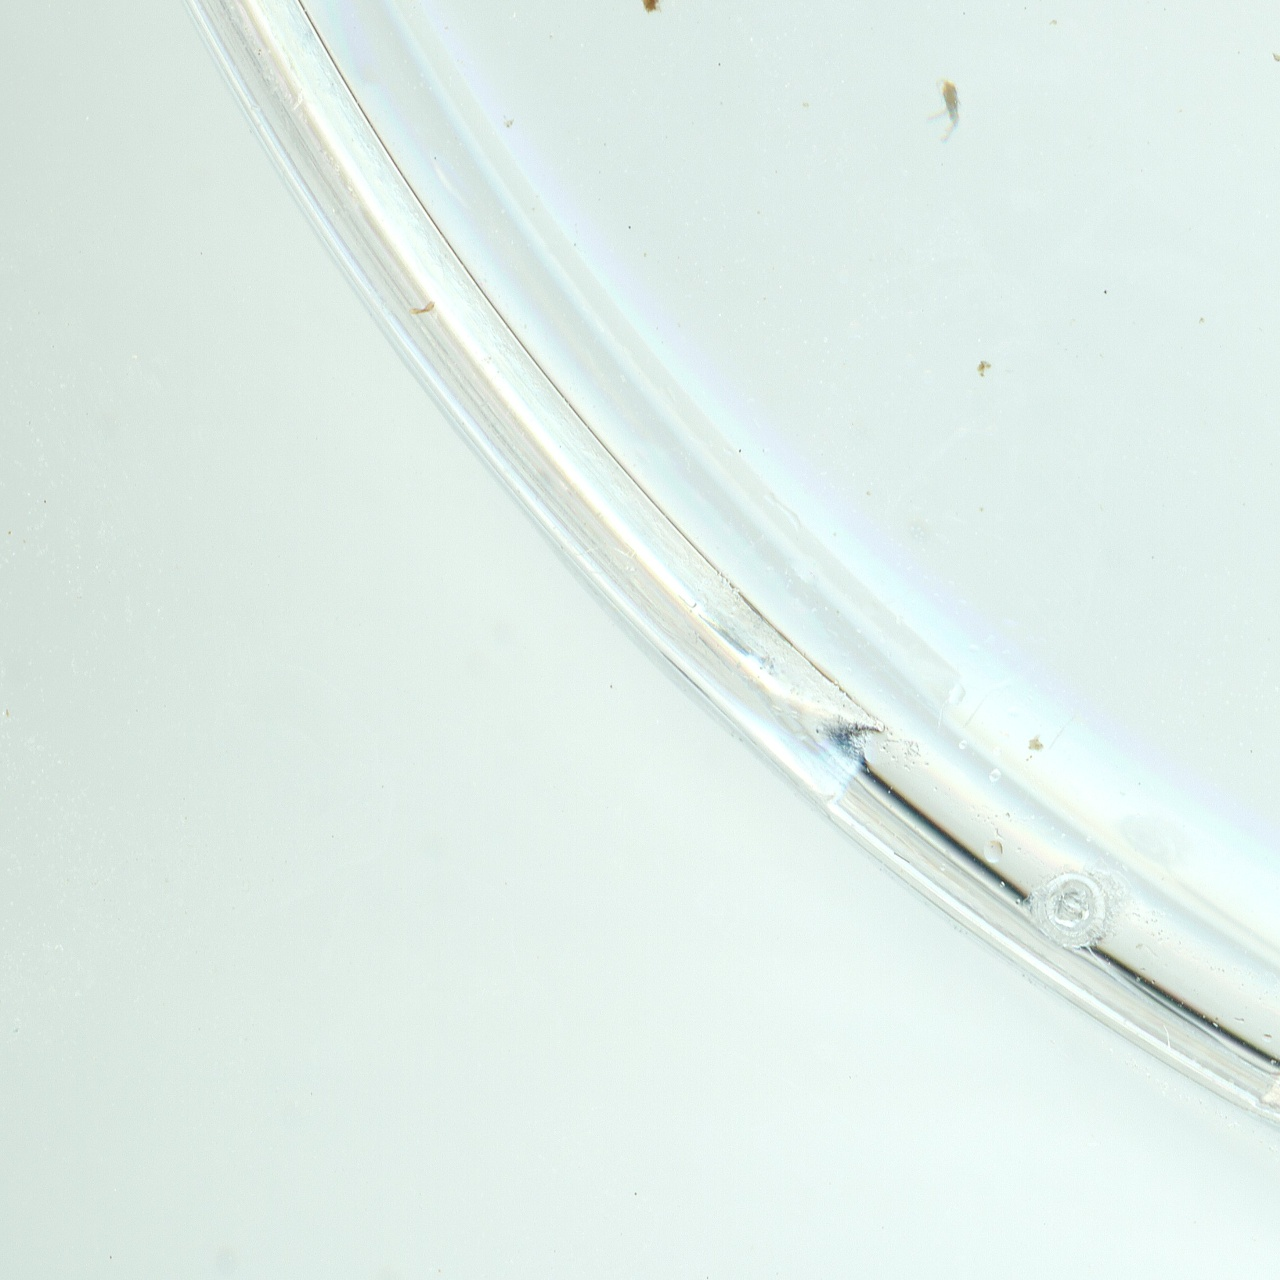arthropod: (922, 77, 964, 146)
